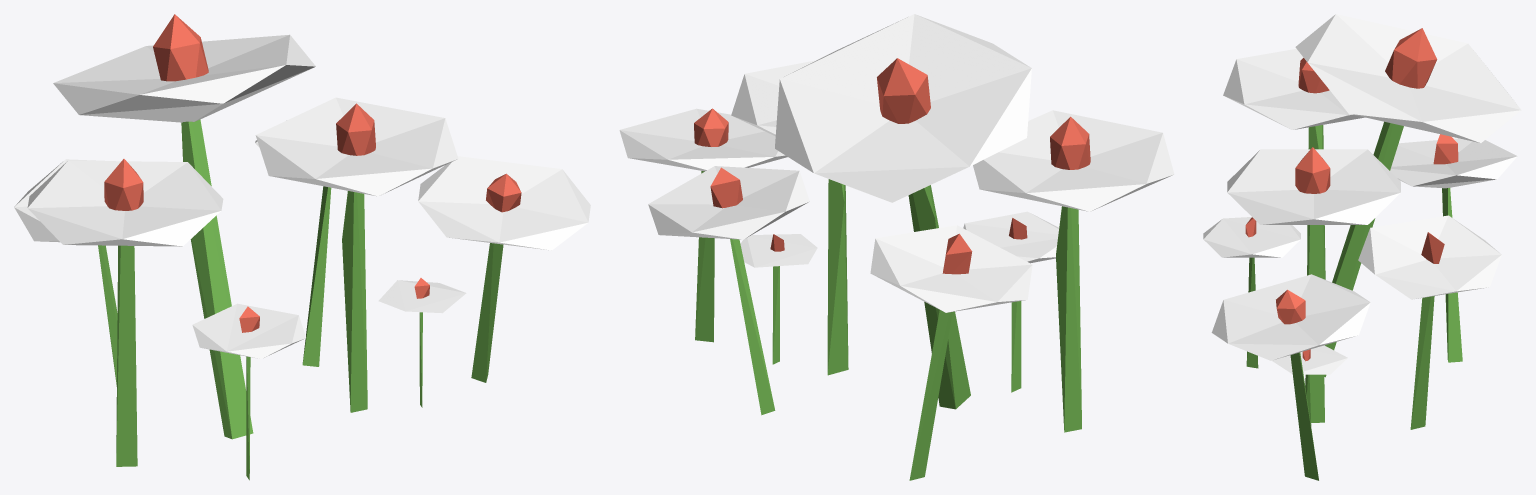
File: Flower_02.fbx
3 renders of one model, left to right at view 1: azimuth 30°, elevation 25°; view 2: azimuth 150°, elevation 25°; view 3: azimuth 270°, elevation 25°, orthographic. The views are drawn at different scales.
Parts seen in each view (by area): view 1: Flower_02; view 2: Flower_02; view 3: Flower_02.
Part boxes in pixels (left/top/right/bottom): Flower_02: left=14, top=14, right=590, bottom=480; Flower_02: left=619, top=14, right=1174, bottom=480; Flower_02: left=1203, top=14, right=1521, bottom=480.
Size of the model in its own units: 30.05 by 21.27 by 17.54.
